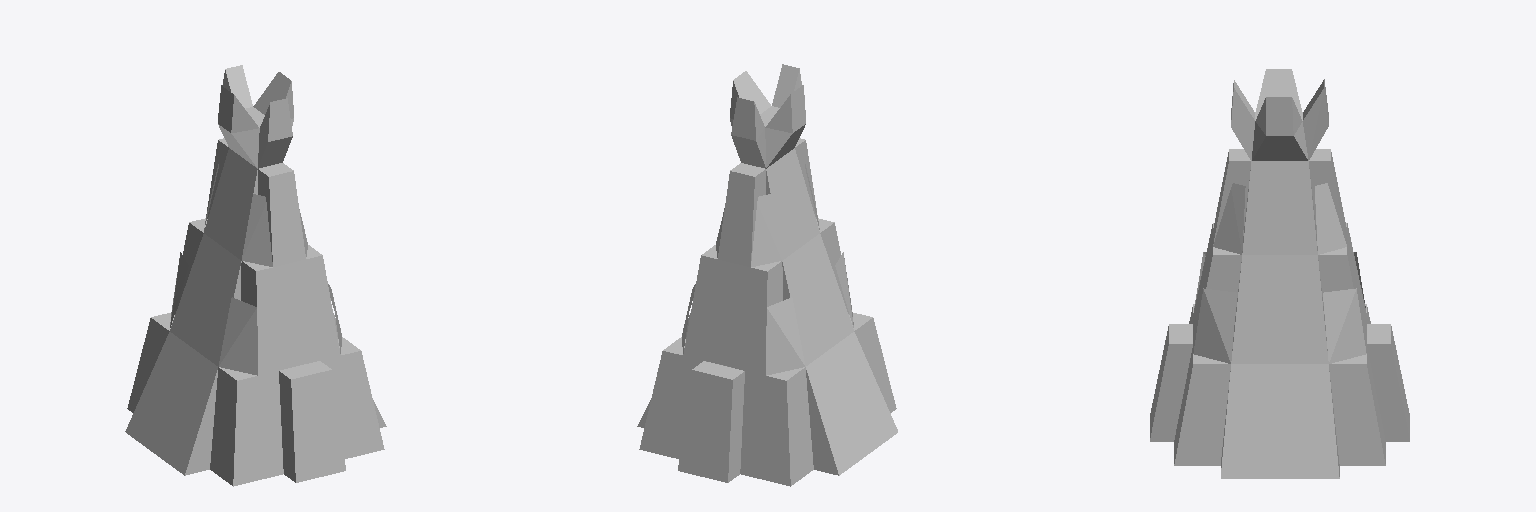
Rendered from vok.obj.
The picture shows the model from 3 angles: view 1: azimuth 30°, elevation 25°; view 2: azimuth 150°, elevation 25°; view 3: azimuth 270°, elevation 25°; orthographic projection.
Visible parts, largest first — view 1: obj_tex_218, obj_tex_219, obj_tex_221, obj_tex_92, obj_tex_220, obj_tex_190; view 2: obj_tex_218, obj_tex_221, obj_tex_219, obj_tex_182, obj_tex_92, obj_tex_220, obj_tex_190; view 3: obj_tex_218, obj_tex_221, obj_tex_219, obj_tex_92, obj_tex_220, obj_tex_190.
Part boxes in pixels (left/top/right/bottom): obj_tex_218: left=125, top=245, right=386, bottom=486; obj_tex_219: left=170, top=171, right=340, bottom=366; obj_tex_221: left=175, top=70, right=337, bottom=379; obj_tex_92: left=170, top=164, right=341, bottom=375; obj_tex_220: left=204, top=148, right=257, bottom=260; obj_tex_190: left=225, top=65, right=290, bottom=127; obj_tex_218: left=637, top=218, right=897, bottom=486; obj_tex_221: left=683, top=69, right=817, bottom=482; obj_tex_219: left=782, top=223, right=853, bottom=366; obj_tex_182: left=678, top=370, right=732, bottom=482; obj_tex_92: left=682, top=164, right=853, bottom=375; obj_tex_220: left=766, top=148, right=819, bottom=260; obj_tex_190: left=733, top=64, right=799, bottom=126; obj_tex_218: left=1150, top=223, right=1385, bottom=478; obj_tex_221: left=1169, top=79, right=1409, bottom=465; obj_tex_219: left=1193, top=152, right=1328, bottom=363; obj_tex_92: left=1193, top=183, right=1366, bottom=363; obj_tex_220: left=1242, top=161, right=1317, bottom=254; obj_tex_190: left=1234, top=69, right=1323, bottom=120.
Bounding box in the file's own units: 2.38 × 3.9 × 2.66.